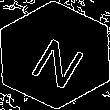N_NE: (21, 23, 89, 87)
